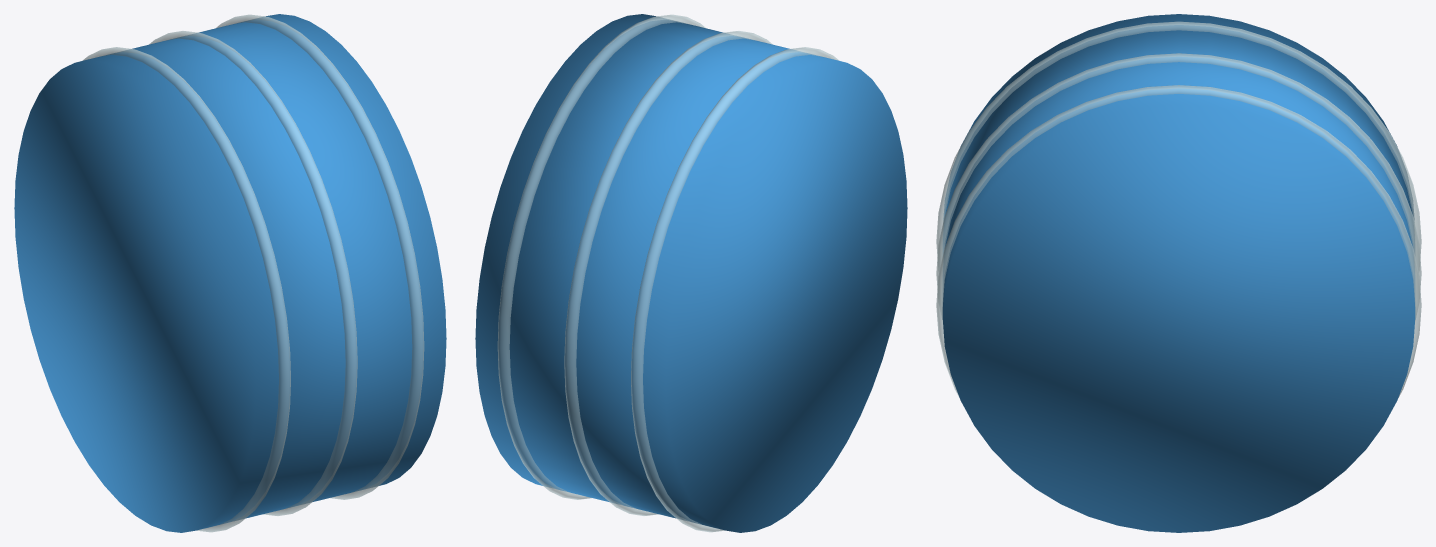
File: bottle_cap.glb
The picture shows the model from 3 angles, left to right: view 1: azimuth 30°, elevation 25°; view 2: azimuth 150°, elevation 25°; view 3: azimuth 270°, elevation 25°; orthographic projection. The views are drawn at different scales.
Parts seen in each view (by area): view 1: RW3_Bottle_Cap, RW3_Cap_Rib_3, RW3_Cap_Rib_2, RW3_Cap_Rib_1; view 2: RW3_Bottle_Cap, RW3_Cap_Rib_3, RW3_Cap_Rib_2, RW3_Cap_Rib_1; view 3: RW3_Bottle_Cap, RW3_Cap_Rib_3, RW3_Cap_Rib_2, RW3_Cap_Rib_1.
Part boxes in pixels (bbox=[...]): RW3_Bottle_Cap: bbox=[14, 14, 446, 532]; RW3_Cap_Rib_3: bbox=[216, 14, 424, 499]; RW3_Cap_Rib_2: bbox=[149, 31, 357, 515]; RW3_Cap_Rib_1: bbox=[82, 47, 290, 532]; RW3_Bottle_Cap: bbox=[475, 14, 907, 532]; RW3_Cap_Rib_3: bbox=[497, 14, 705, 499]; RW3_Cap_Rib_2: bbox=[564, 31, 772, 515]; RW3_Cap_Rib_1: bbox=[631, 47, 839, 532]; RW3_Bottle_Cap: bbox=[942, 14, 1415, 532]; RW3_Cap_Rib_3: bbox=[936, 85, 1421, 397]; RW3_Cap_Rib_2: bbox=[936, 53, 1421, 314]; RW3_Cap_Rib_1: bbox=[936, 21, 1421, 269].
Bounding box in the file's own units: 0.2 × 0.452 × 0.452.
